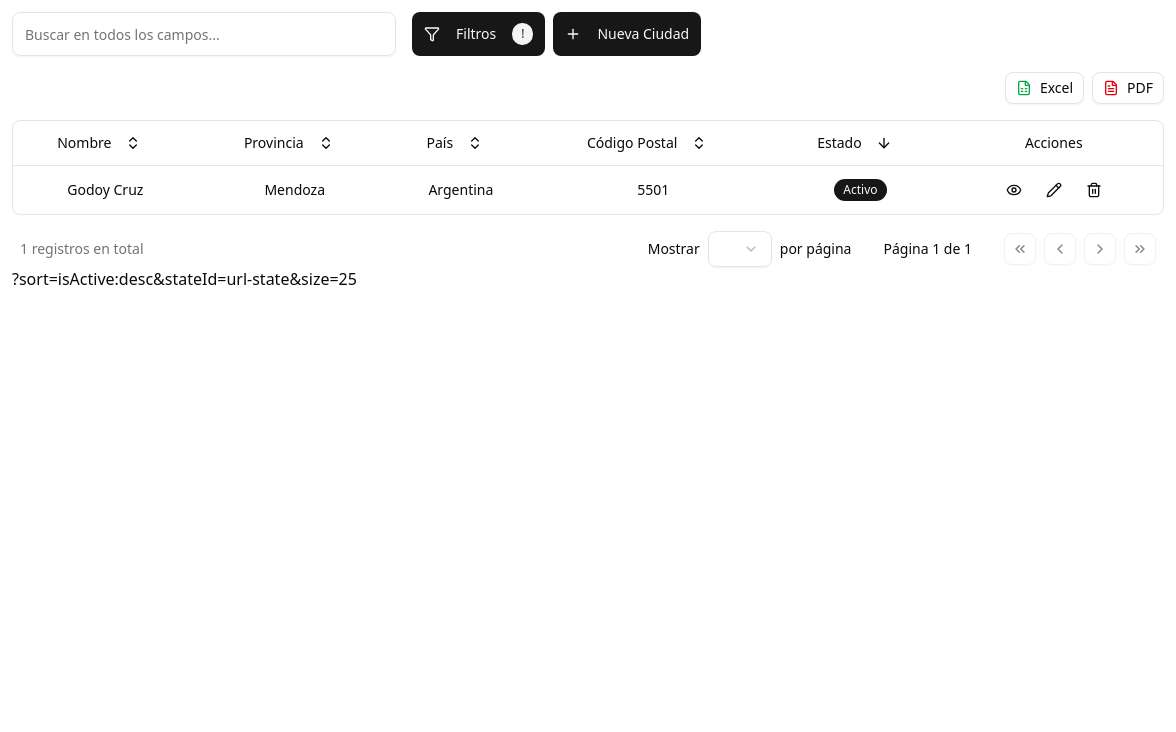
Scenario: CitiesTable sorting › keeps headers single-sort and preserves the country to state cascade
Step 1. Click the button "Filtros !" → (479, 34), box [412,12,546,56]
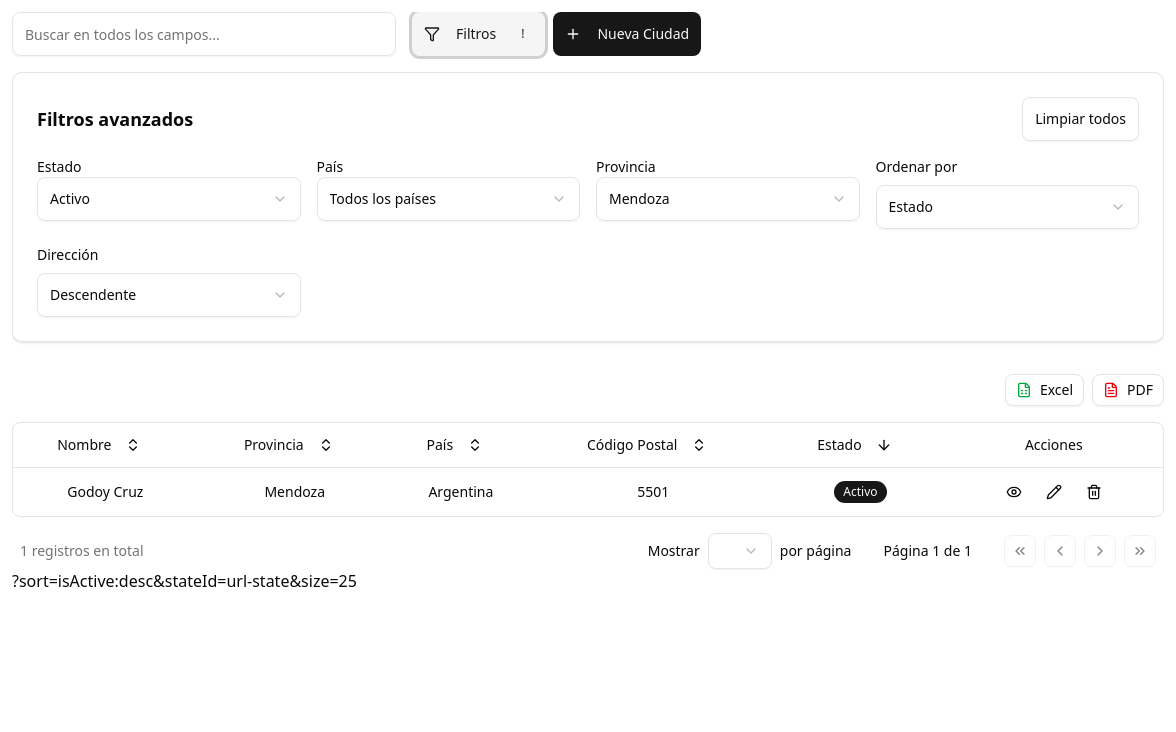
expect the dropdown named "Ordenar por" reads "Estado": met, box [876,185,1139,229]
expect the dropdown named "Dirección" reads "Descendente": met, box [37,273,300,317]
Step 2. Click the button "Código Postal" → (647, 445), box [577,423,717,467]
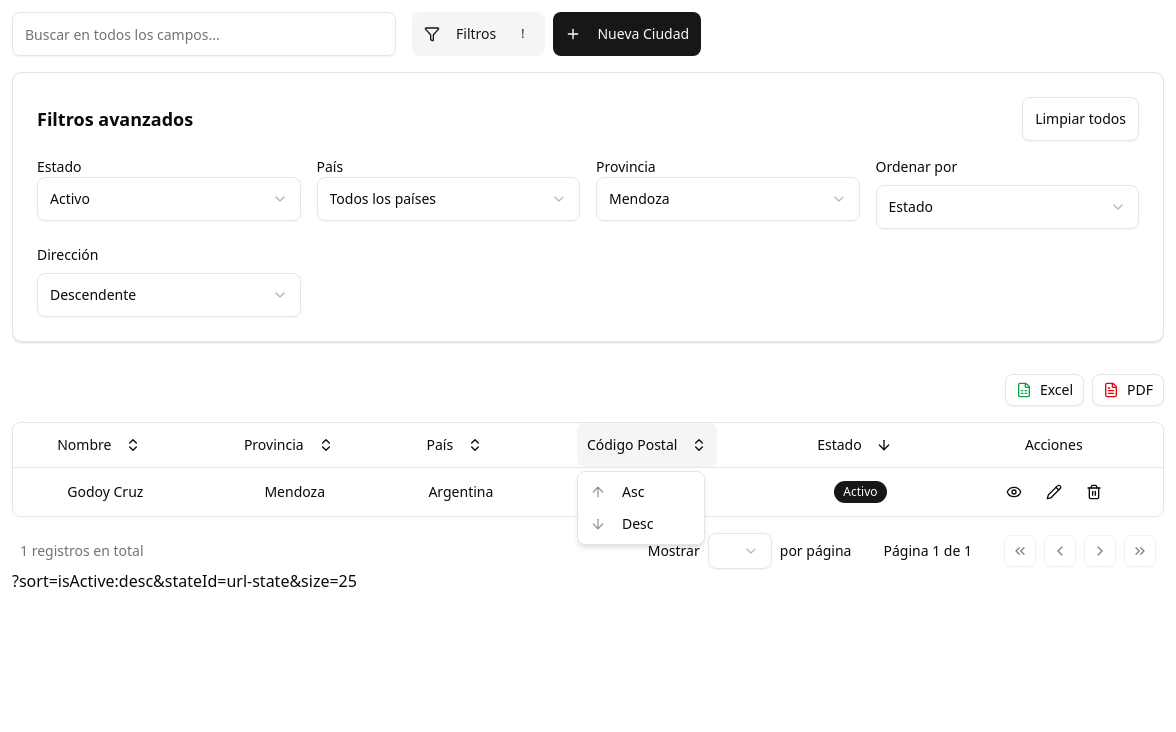
Step 3. Type keys "{Shift>}"
Step 4. Click the menu item "Asc" → (598, 492), box [590,482,644,501]
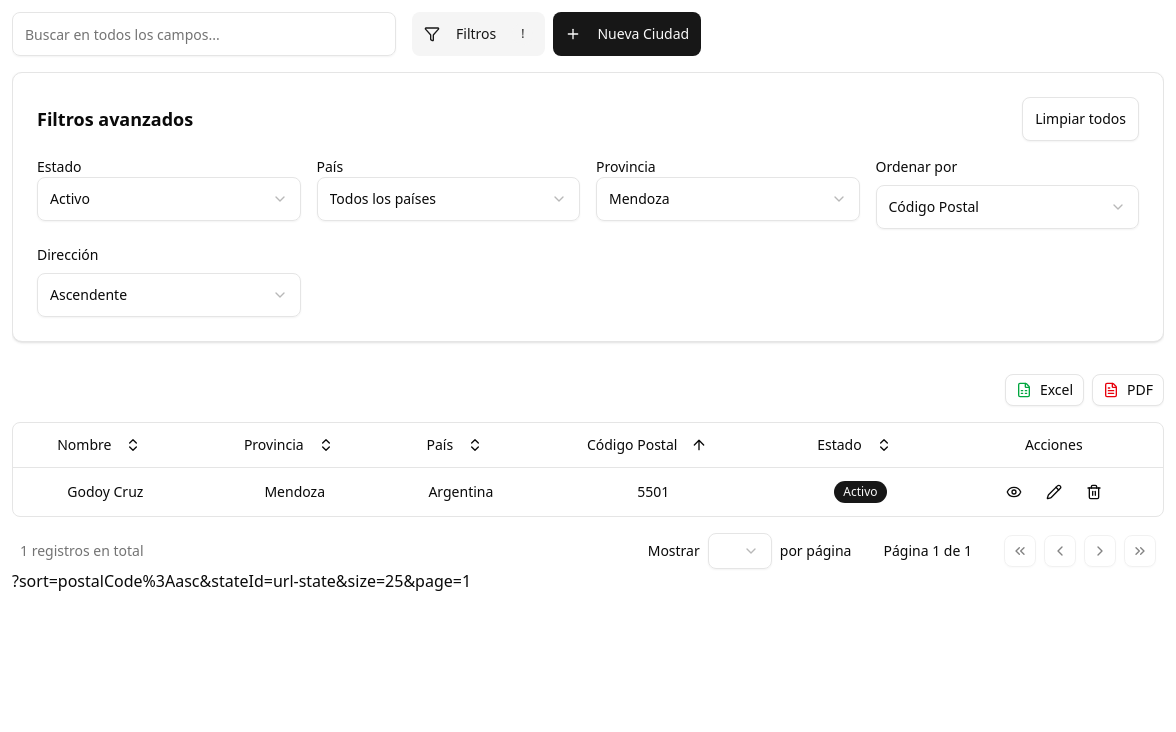
Step 5. Type keys "{/Shift}"
expect the text with test id "search" shows "sort=postalCode%3Aasc&stateId=url-state&size=25&page=1": met, box [12,570,471,592]
Step 6. Click the dropdown labelled "Todos los países" → (383, 198), box [316,177,580,221]
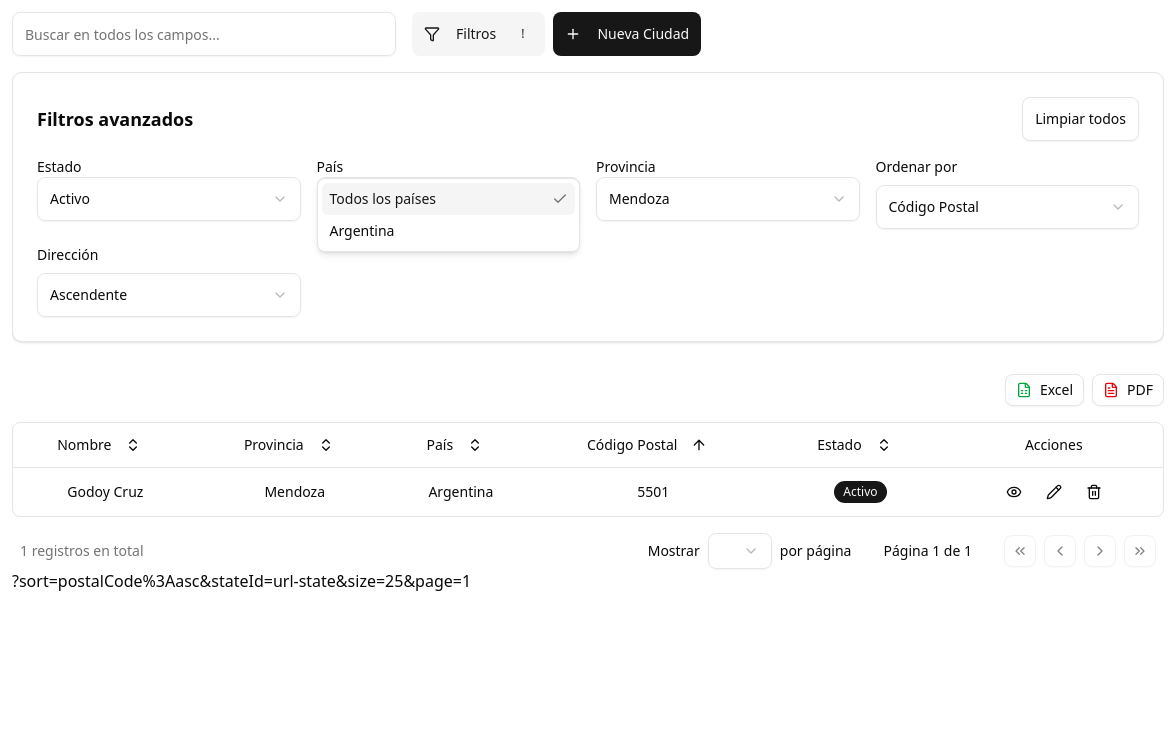
Step 7. Click the option "Argentina" → (362, 230), box [330,221,394,240]
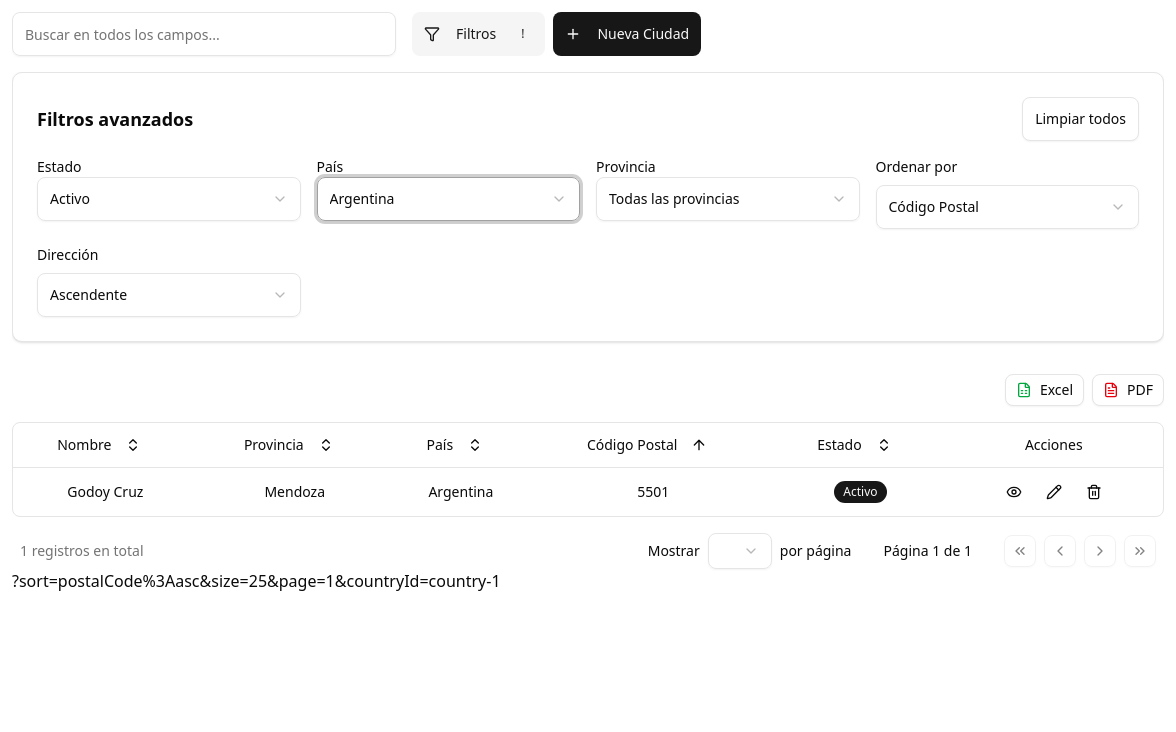
expect the text with test id "search" no longer shows "stateId=": met, box [12,570,500,592]
